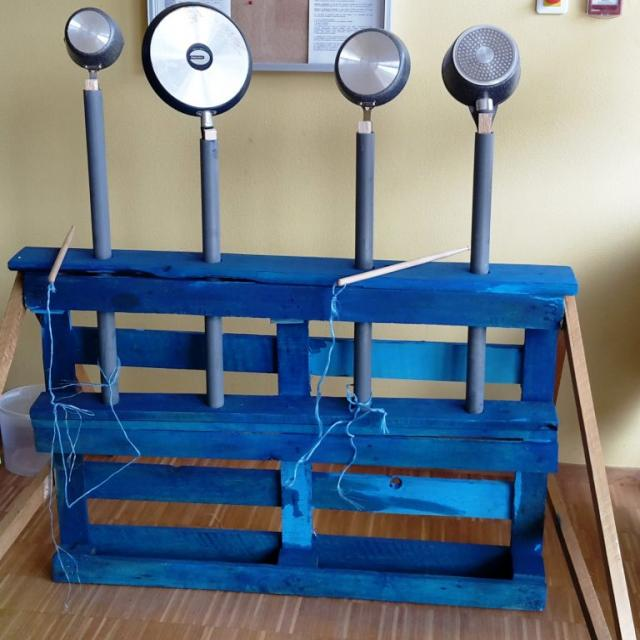Palette: (0, 232, 582, 619)
